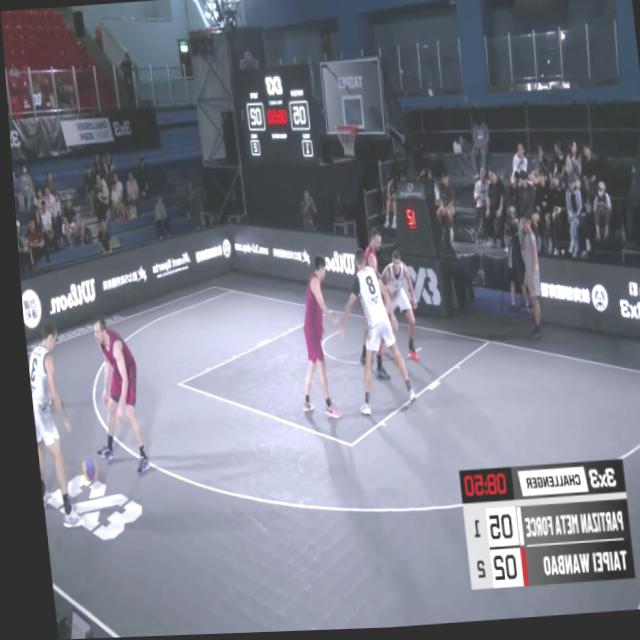ball: (73, 456, 90, 486)
hoop: (331, 124, 356, 160)
player: (327, 247, 409, 421), (19, 323, 76, 524), (283, 253, 343, 421), (82, 319, 144, 478), (339, 228, 391, 369), (368, 249, 420, 378)
